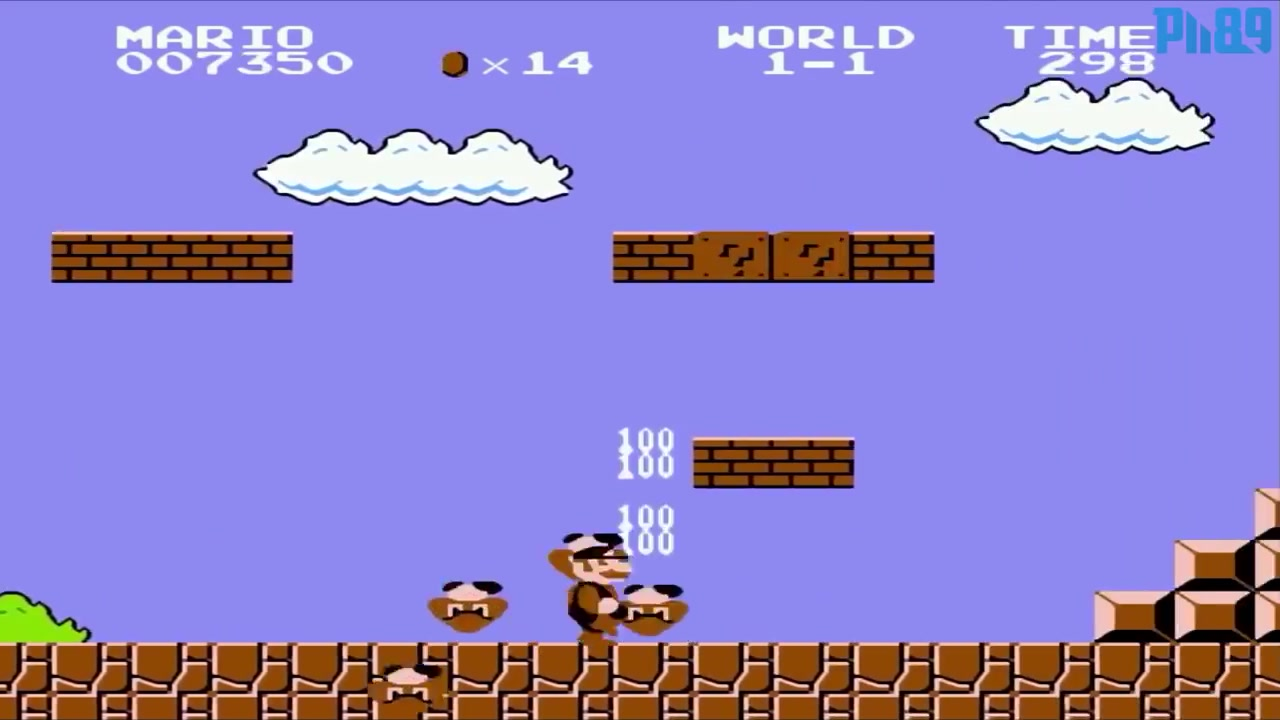mario: (557, 526, 637, 645)
